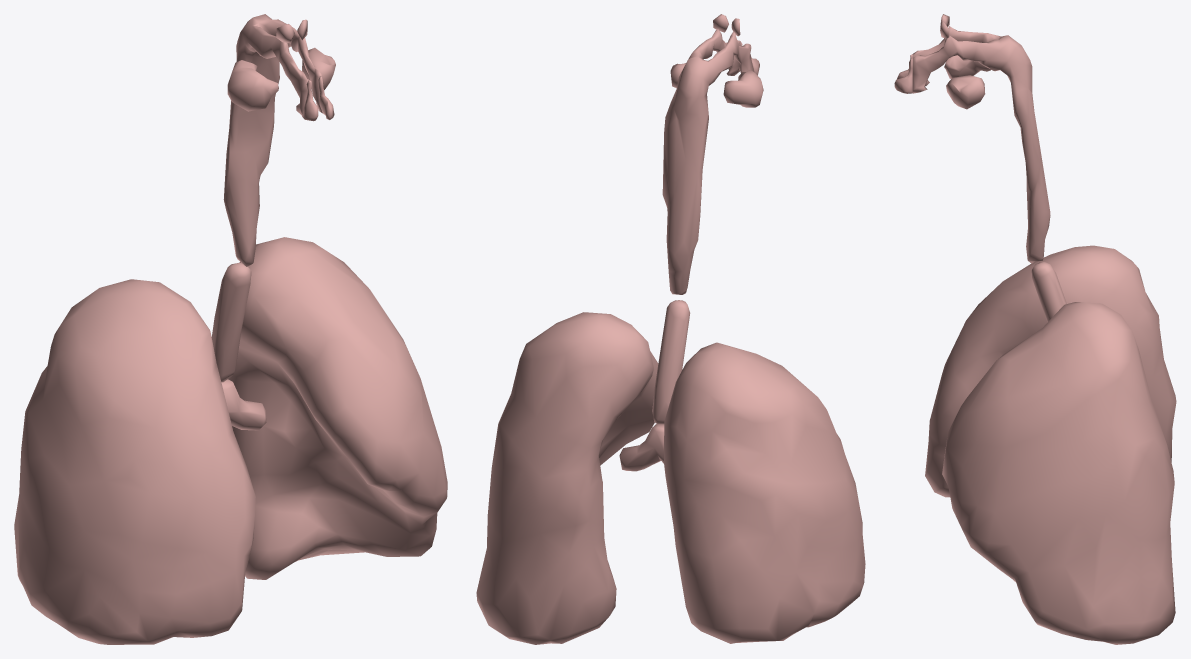
The model's file is pediatric_adolescent_female.respiratory.LOD2.glb.
The picture shows the model from 3 angles, left to right: view 1: azimuth 30°, elevation 25°; view 2: azimuth 150°, elevation 25°; view 3: azimuth 270°, elevation 25°; orthographic projection. The views are drawn at different scales.
Parts seen in each view (by area): view 1: PEDIATRIC.ADOLESCENT.FEMALE.RESPIRATORY.LUNG.R, PEDIATRIC.ADOLESCENT.FEMALE.RESPIRATORY.LUNG.L, PEDIATRIC.ADOLESCENT.FEMALE.RESPIRATORY.ET2, PEDIATRIC.ADOLESCENT.FEMALE.RESPIRATORY.TRACHEA, PEDIATRIC.ADOLESCENT.FEMALE.RESPIRATORY.BB1, PEDIATRIC.ADOLESCENT.FEMALE.RESPIRATORY.ET1; view 2: PEDIATRIC.ADOLESCENT.FEMALE.RESPIRATORY.LUNG.R, PEDIATRIC.ADOLESCENT.FEMALE.RESPIRATORY.LUNG.L, PEDIATRIC.ADOLESCENT.FEMALE.RESPIRATORY.ET2, PEDIATRIC.ADOLESCENT.FEMALE.RESPIRATORY.TRACHEA, PEDIATRIC.ADOLESCENT.FEMALE.RESPIRATORY.BB1; view 3: PEDIATRIC.ADOLESCENT.FEMALE.RESPIRATORY.LUNG.L, PEDIATRIC.ADOLESCENT.FEMALE.RESPIRATORY.LUNG.R, PEDIATRIC.ADOLESCENT.FEMALE.RESPIRATORY.ET2, PEDIATRIC.ADOLESCENT.FEMALE.RESPIRATORY.TRACHEA, PEDIATRIC.ADOLESCENT.FEMALE.RESPIRATORY.ET1.
Boxes of the visible parts, left/top/right/bottom form: PEDIATRIC.ADOLESCENT.FEMALE.RESPIRATORY.LUNG.R: left=14, top=279, right=255, bottom=644; PEDIATRIC.ADOLESCENT.FEMALE.RESPIRATORY.LUNG.L: left=228, top=237, right=447, bottom=579; PEDIATRIC.ADOLESCENT.FEMALE.RESPIRATORY.ET2: left=223, top=14, right=335, bottom=266; PEDIATRIC.ADOLESCENT.FEMALE.RESPIRATORY.TRACHEA: left=211, top=262, right=251, bottom=382; PEDIATRIC.ADOLESCENT.FEMALE.RESPIRATORY.BB1: left=221, top=379, right=266, bottom=430; PEDIATRIC.ADOLESCENT.FEMALE.RESPIRATORY.ET1: left=302, top=76, right=334, bottom=121; PEDIATRIC.ADOLESCENT.FEMALE.RESPIRATORY.LUNG.R: left=664, top=342, right=865, bottom=643; PEDIATRIC.ADOLESCENT.FEMALE.RESPIRATORY.LUNG.L: left=476, top=312, right=658, bottom=644; PEDIATRIC.ADOLESCENT.FEMALE.RESPIRATORY.ET2: left=662, top=14, right=763, bottom=294; PEDIATRIC.ADOLESCENT.FEMALE.RESPIRATORY.TRACHEA: left=652, top=300, right=690, bottom=424; PEDIATRIC.ADOLESCENT.FEMALE.RESPIRATORY.BB1: left=619, top=424, right=664, bottom=471; PEDIATRIC.ADOLESCENT.FEMALE.RESPIRATORY.LUNG.L: left=942, top=302, right=1175, bottom=644; PEDIATRIC.ADOLESCENT.FEMALE.RESPIRATORY.LUNG.R: left=925, top=245, right=1176, bottom=497; PEDIATRIC.ADOLESCENT.FEMALE.RESPIRATORY.ET2: left=912, top=14, right=1050, bottom=263; PEDIATRIC.ADOLESCENT.FEMALE.RESPIRATORY.TRACHEA: left=1031, top=262, right=1066, bottom=322; PEDIATRIC.ADOLESCENT.FEMALE.RESPIRATORY.ET1: left=894, top=54, right=912, bottom=93.
Size of the model in its own units: 0.2359 by 0.3761 by 0.1712.
